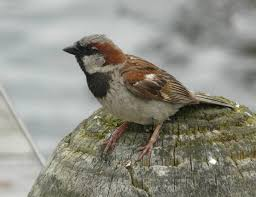home_sparrow: (47, 34, 248, 158)
